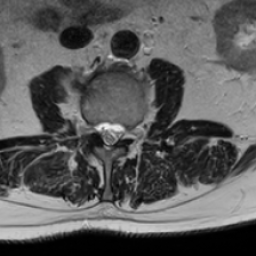CCS_normal: (106, 111, 114, 159)
LFS_normal: (124, 114, 134, 149)
LLS_normal: (114, 112, 124, 149)
RFS_normal: (85, 112, 95, 143)
RLS_normal: (95, 112, 106, 145)
